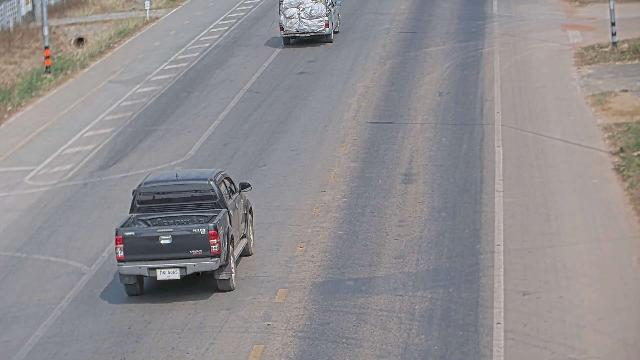pickup-truck: (114, 167, 255, 296), (277, 0, 341, 46)
